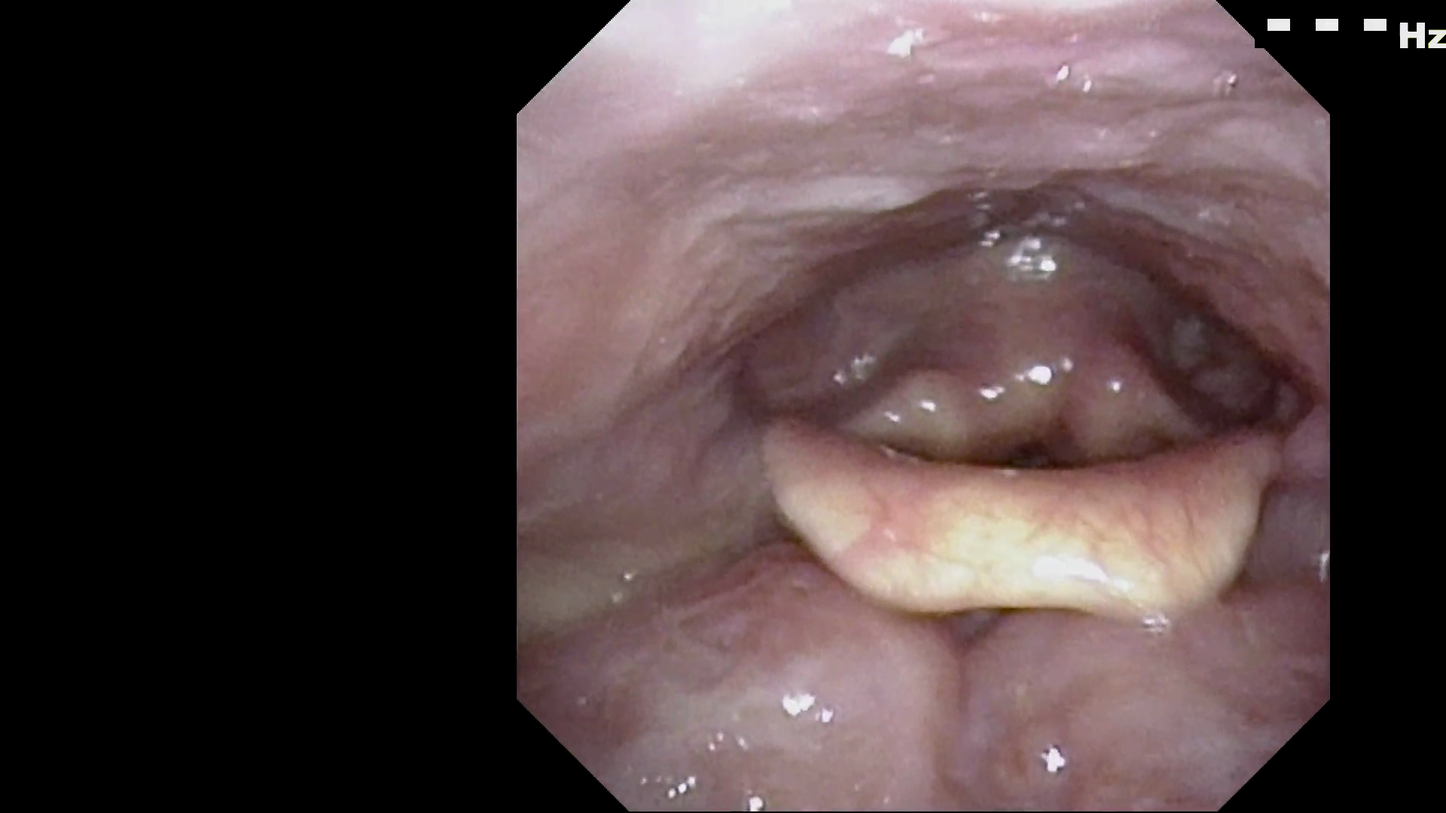epiglottis: (745, 388, 1301, 628)
trachea: (957, 378, 1104, 532)
